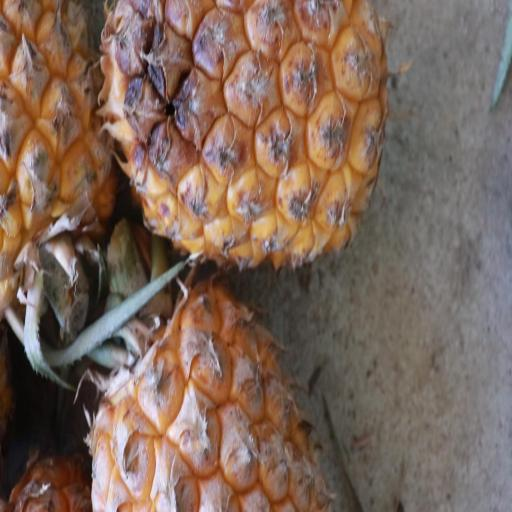Pineapple - v8 v1: (85, 0, 393, 274), (79, 259, 317, 512)
